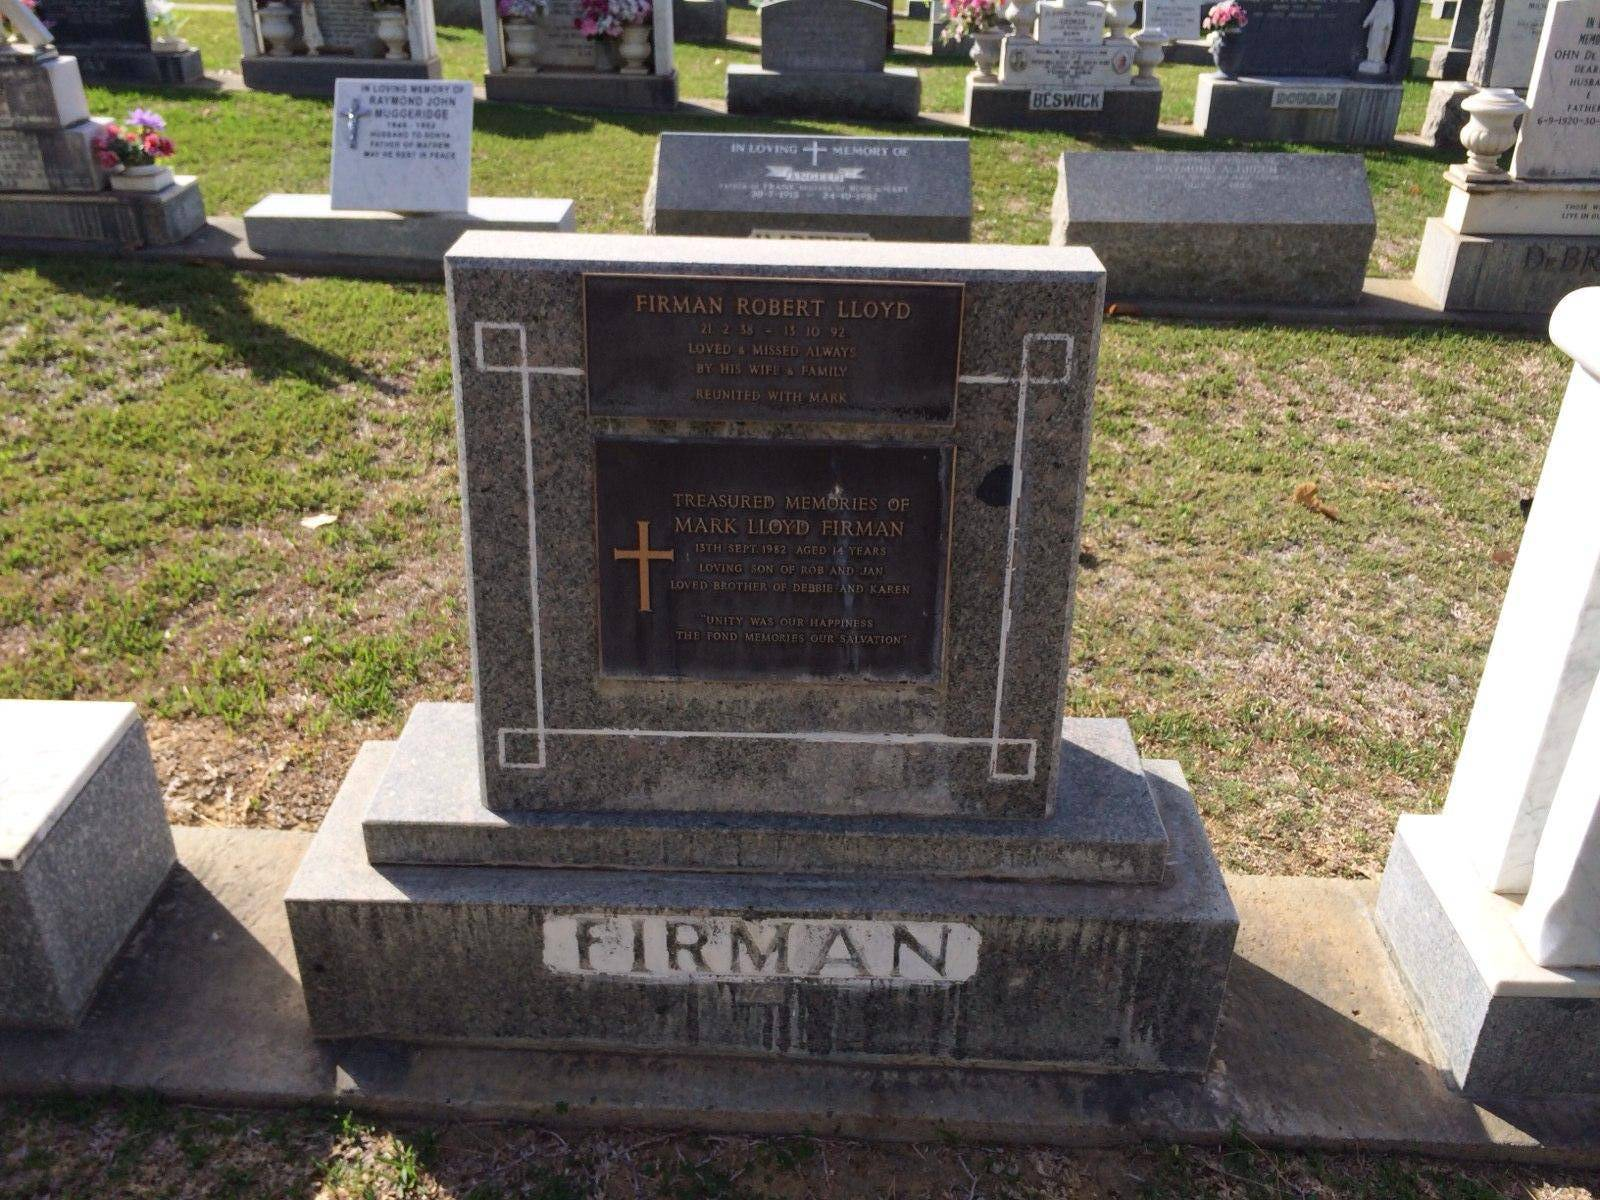upright: (285, 212, 1242, 1107)
